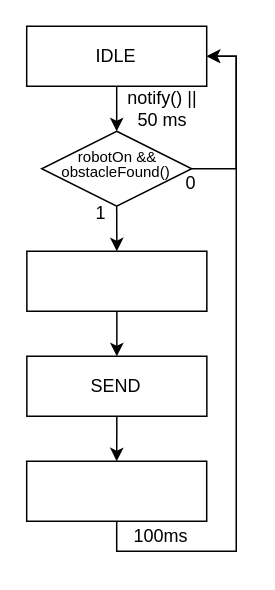
Image size: 275x590. Some labels were removed from this diagram. The centre of each missing label's shape, as x and y in pixels:
GENERATE: (116,280)
WAIT: (116,490)
